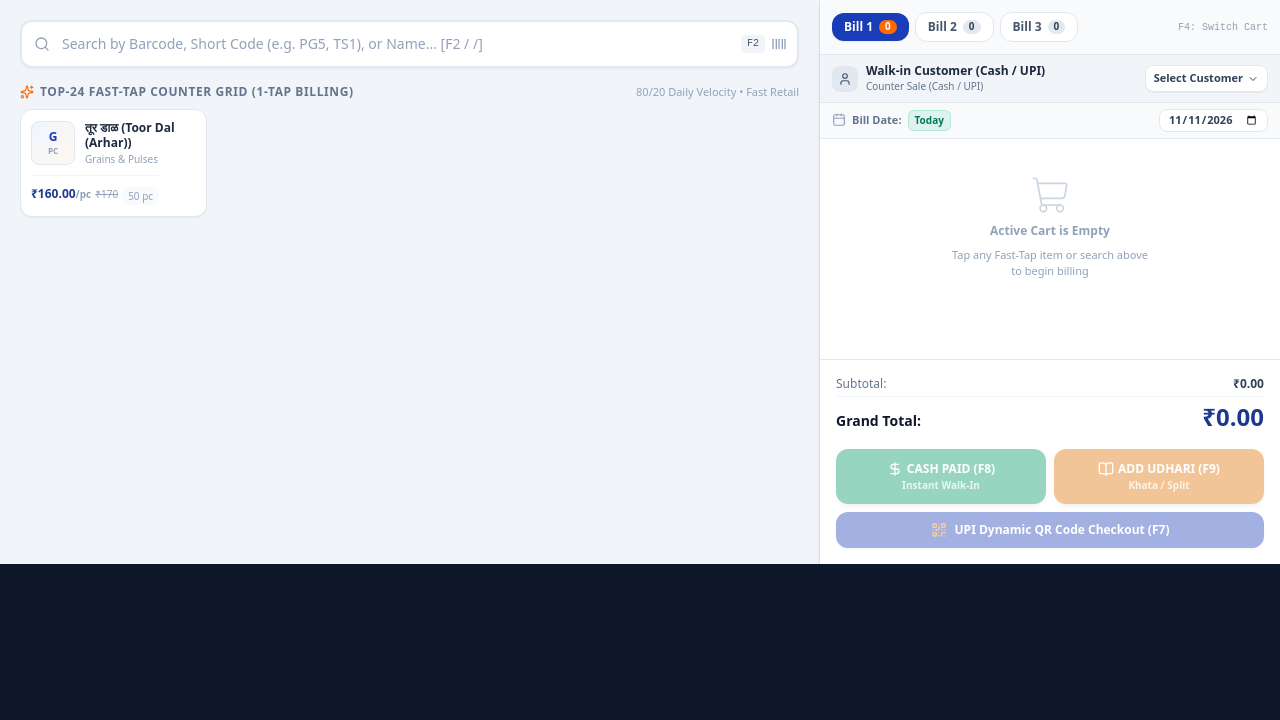
Test: POS Backdated Billing & Multi-Tab Date Independence › 1. Renders Bill Date selector defaulting to Today, highlights Backdated badge when past date chosen, and keeps Bill 1 / Bill 2 / Bill 3 dates independent
The image size is (1280, 720).
Later steps or results of the test are not shown.
Check: the text "Today" is shown, box [908,110,951,131]
Select a backdated date on Bill 1
In the date field with test id "pos-bill-date-input": coordinates (1214, 120) [1159,109,1268,132], type "2026-10-15"
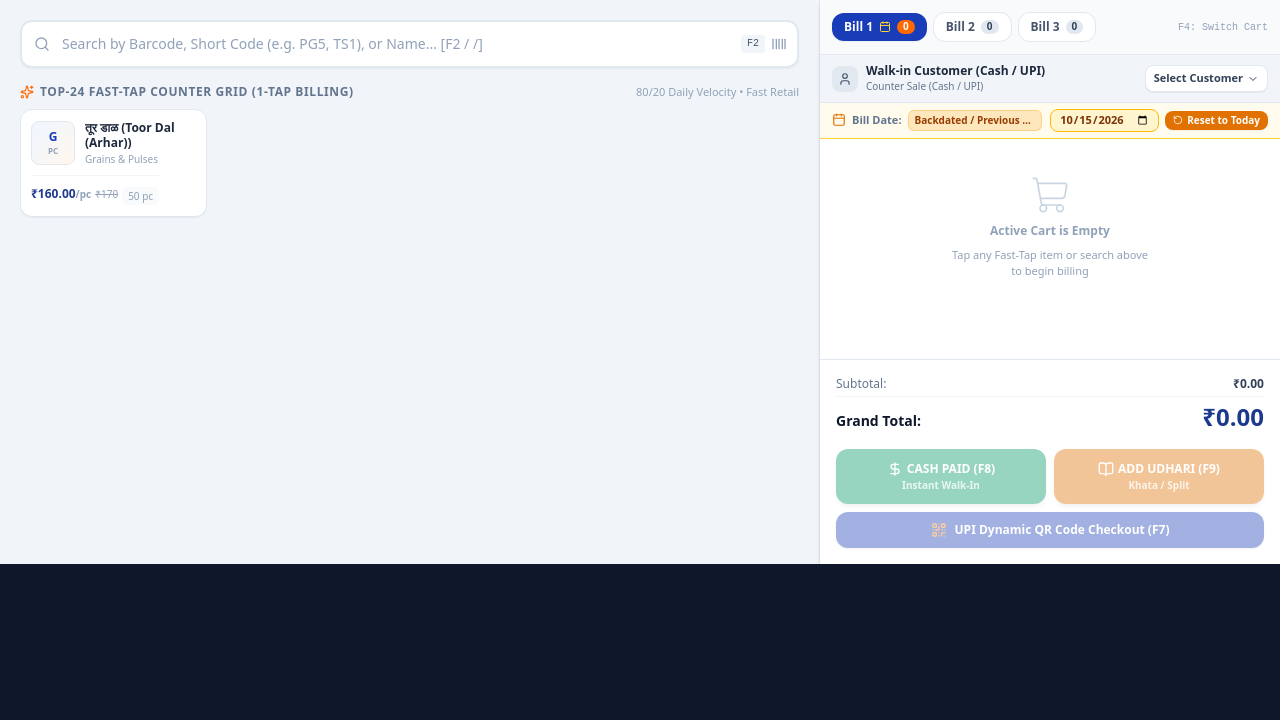
Check: the text with test id "backdated-bill-badge" reads "Backdated / Previous Bill", box [914,113,1038,127]
Check: the button with test id "reset-bill-date-btn" is shown, box [1165,111,1268,130]
Check: the icon with test id "cart-tab-backdated-1" is shown, box [879,21,891,33]
Click the button with test id "cart-tab-2": coordinates (972, 27) [933,12,1012,42]
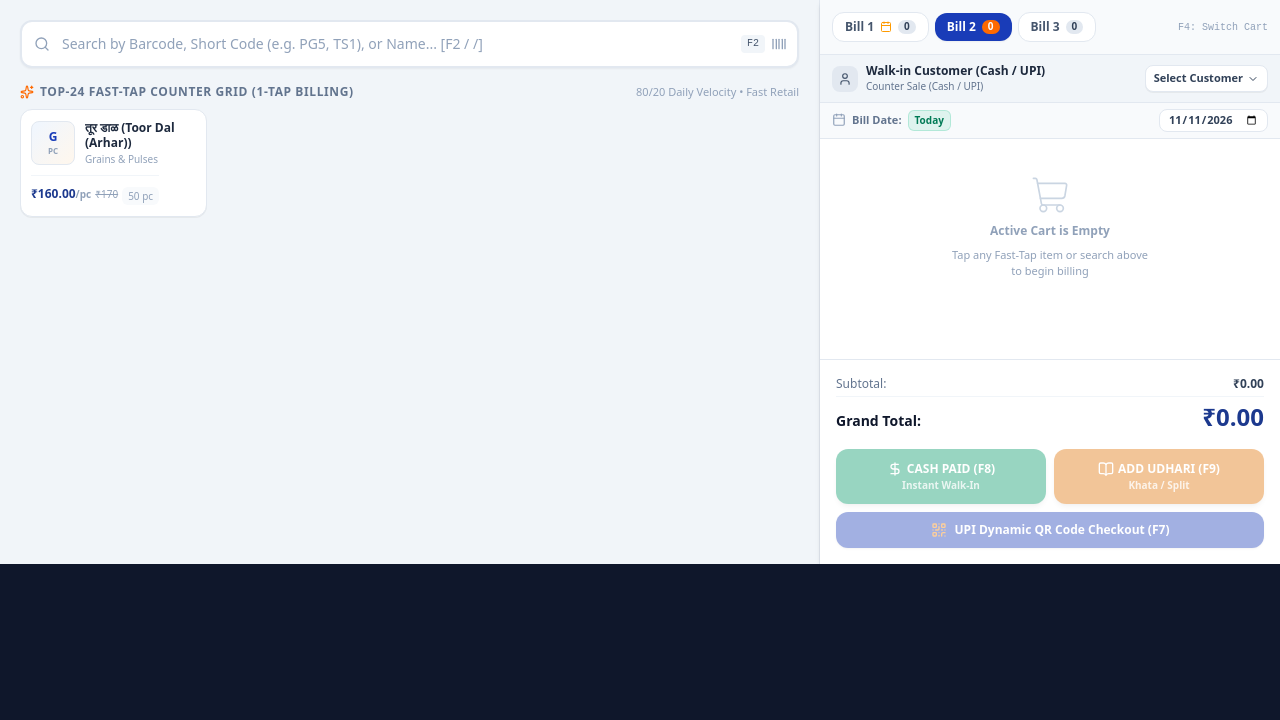
Check: the text "Today" is shown, box [908,110,951,131]
